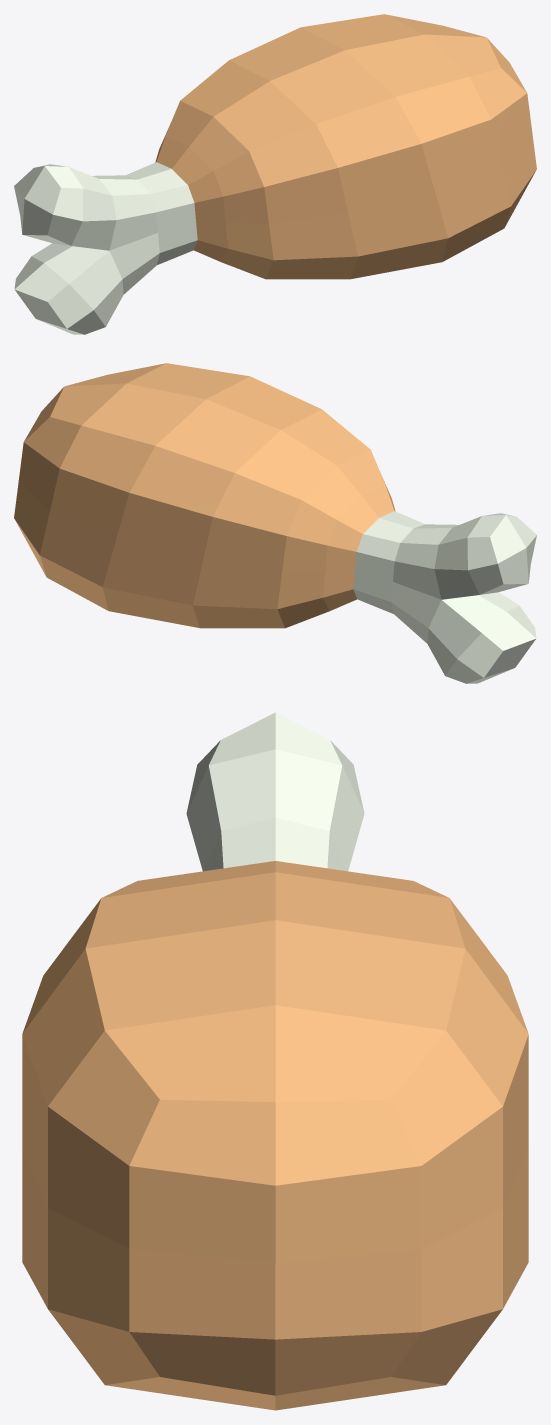
File: chicken.glb
The picture shows the model from 3 angles, top to bottom: view 1: azimuth 30°, elevation 25°; view 2: azimuth 150°, elevation 25°; view 3: azimuth 270°, elevation 25°; orthographic projection. The views are drawn at different scales.
Visible parts, largest first — view 1: ChickenLeg; view 2: ChickenLeg; view 3: ChickenLeg.
Boxes of the visible parts, x1,y1,x2,y2 form: ChickenLeg: (14, 14, 536, 334); ChickenLeg: (14, 363, 536, 683); ChickenLeg: (22, 712, 528, 1410).
Bounding box in the file's own units: 0.6212 × 0.2582 × 0.2717.
